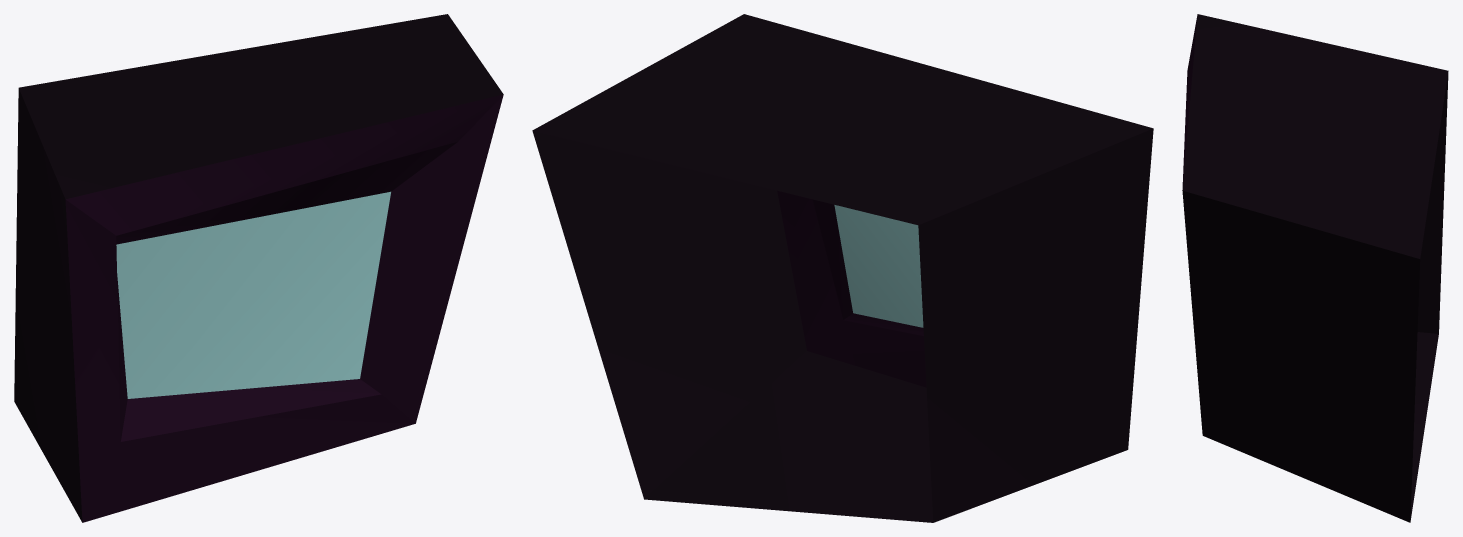
File: c_house_window_square_ac.fbx
3 views of the same model, side by side, from view 1: azimuth 30°, elevation 25°; view 2: azimuth 150°, elevation 25°; view 3: azimuth 270°, elevation 25° (orthographic). The views are drawn at different scales.
Parts seen in each view (by area): view 1: c_house_window_square_ac; view 2: c_house_window_square_ac; view 3: c_house_window_square_ac.
Part boxes in pixels (bbox=[...]): c_house_window_square_ac: bbox=[14, 14, 503, 522]; c_house_window_square_ac: bbox=[532, 14, 1153, 522]; c_house_window_square_ac: bbox=[1182, 14, 1448, 522].
Size of the model in its own units: 1.52 by 1.13 by 0.7914.
